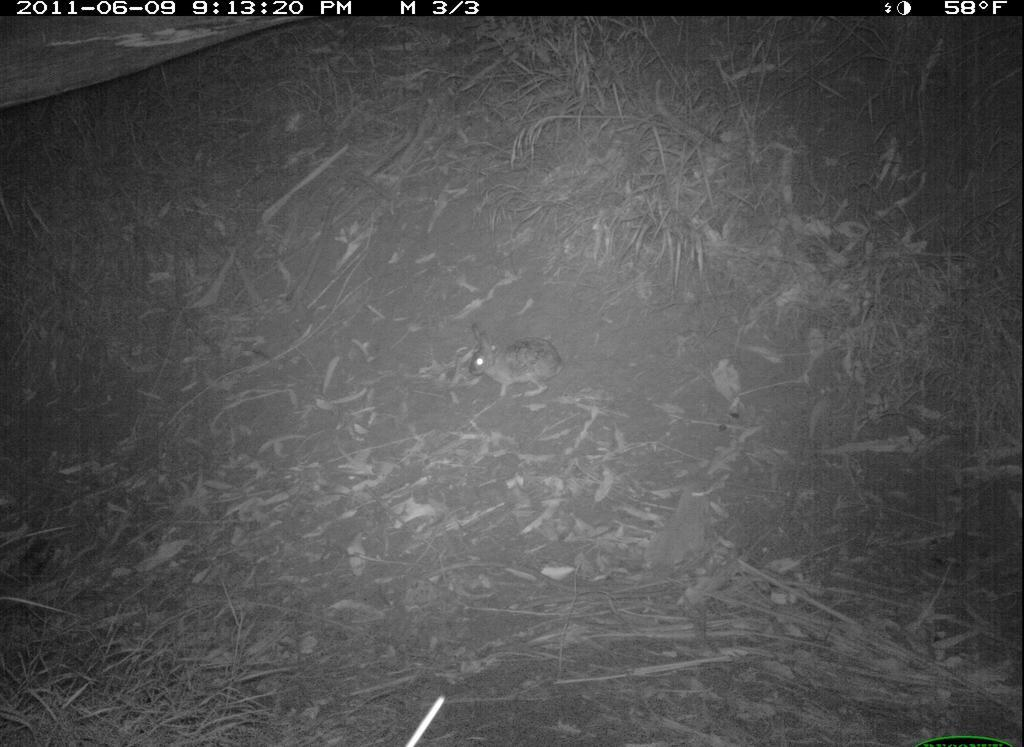rabbit: (465, 323, 566, 402)
